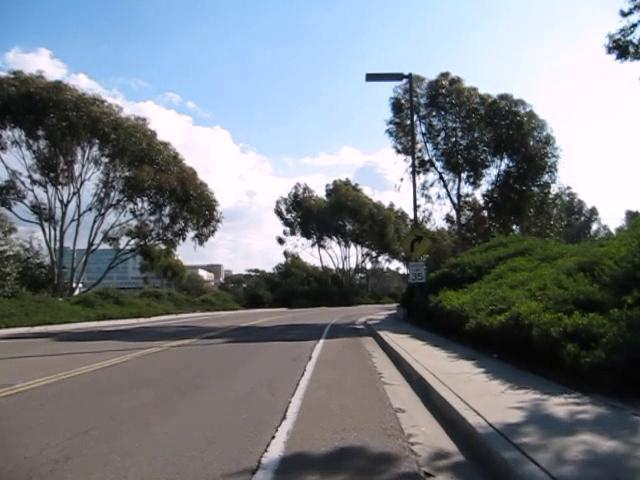speedLimit35: (408, 260, 426, 283)
